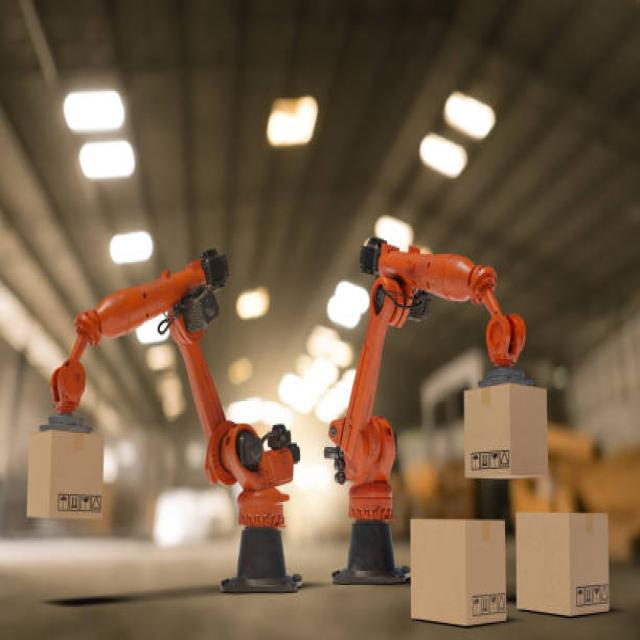Robotic-arm: (44, 243, 303, 602), (324, 228, 532, 590)
